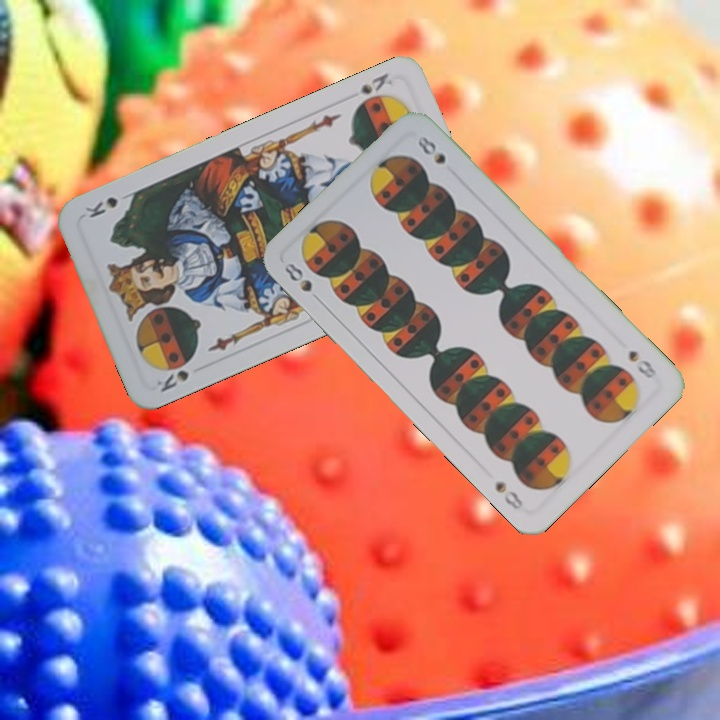S8: (280, 258, 315, 295), (624, 346, 660, 381)
SK: (350, 69, 395, 111), (152, 366, 192, 395)
